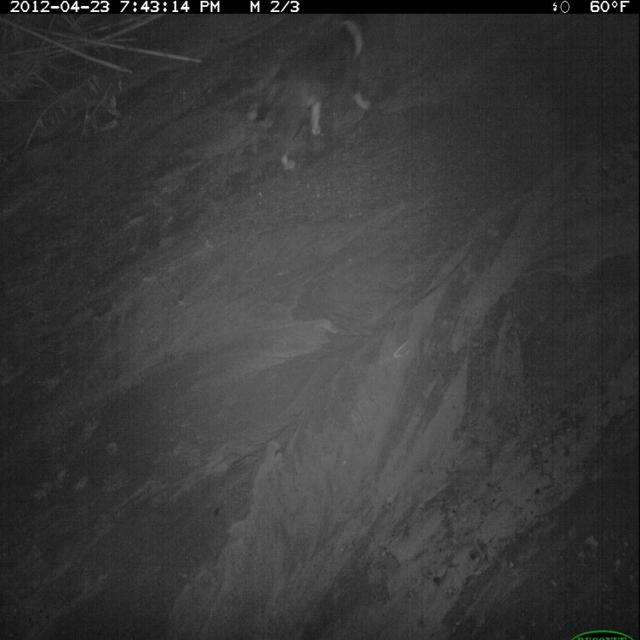dog: (245, 17, 382, 178)
